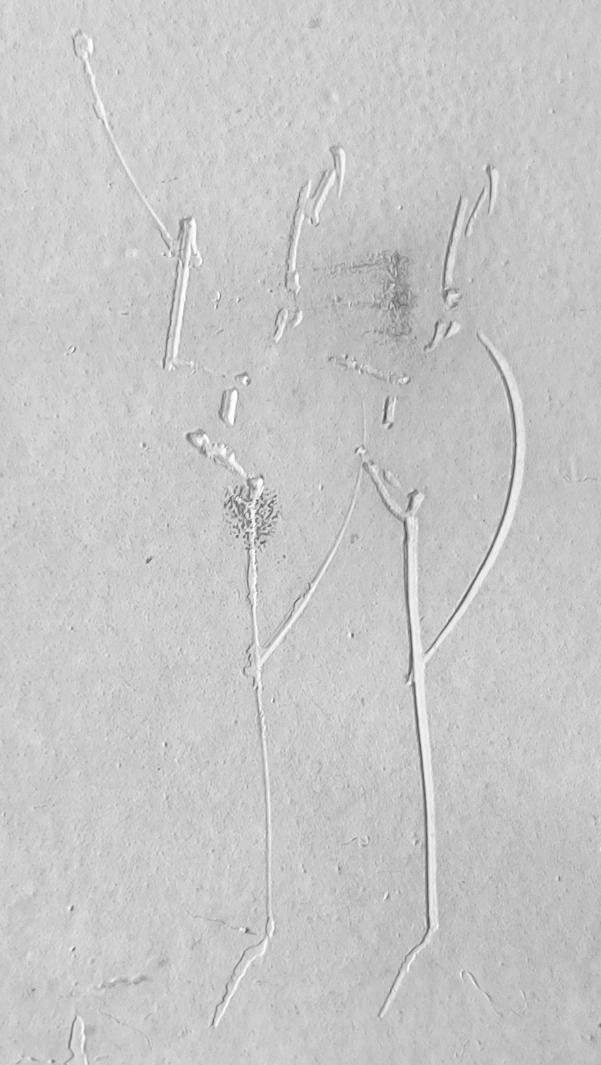scratch: (1, 1, 601, 1065)
